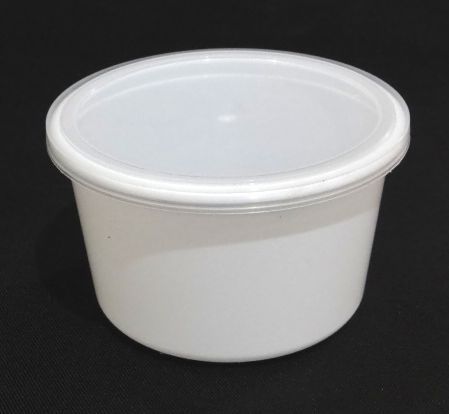PlasticBox: (41, 41, 414, 366)
